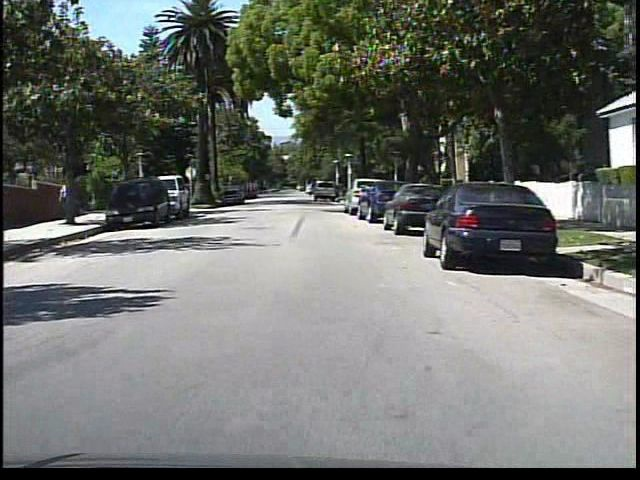person: (59, 177, 77, 221)
